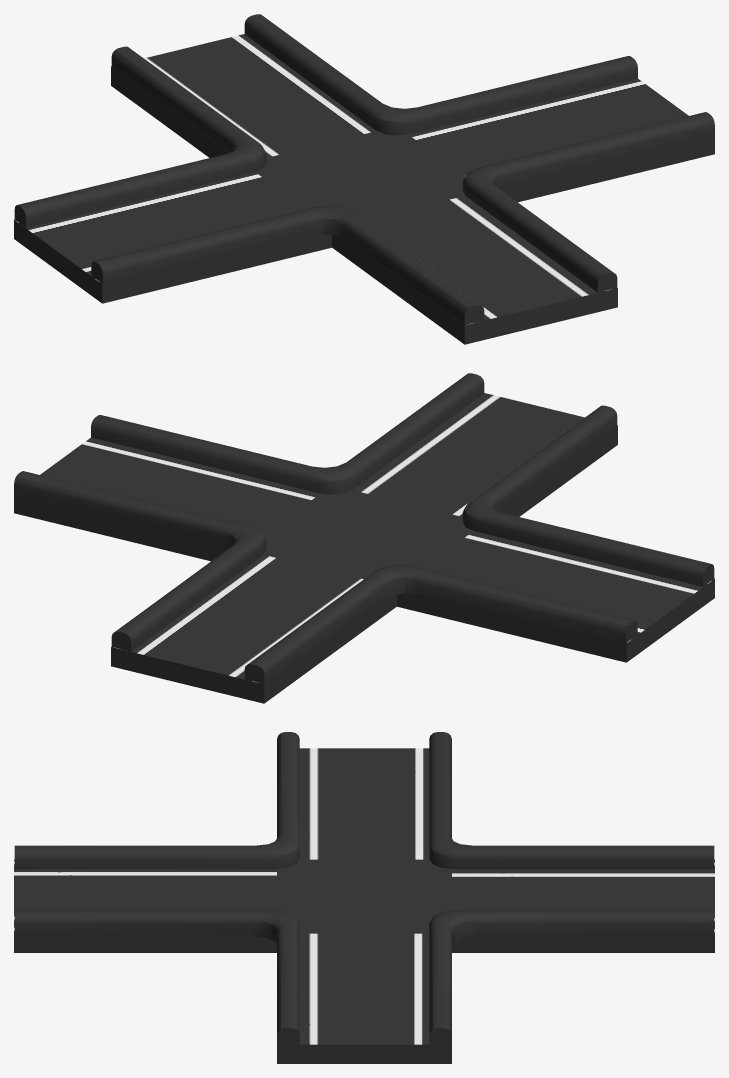
Rendered from crossroad.fbx.
3 views of the same model, one above another, from view 1: azimuth 30°, elevation 25°; view 2: azimuth 150°, elevation 25°; view 3: azimuth 270°, elevation 25° (orthographic).
Visible parts, largest first — view 1: Cube, Cube.001; view 2: Cube, Cube.001; view 3: Cube, Cube.001.
Part boxes in pixels (<box>): Cube: <box>14,34,714,344</box>; Cube.001: <box>14,14,714,324</box>; Cube: <box>14,393,714,703</box>; Cube.001: <box>14,373,714,683</box>; Cube: <box>14,748,714,1063</box>; Cube.001: <box>14,732,714,1047</box>.
Size of the model in its own units: 937 by 52.95 by 937.
